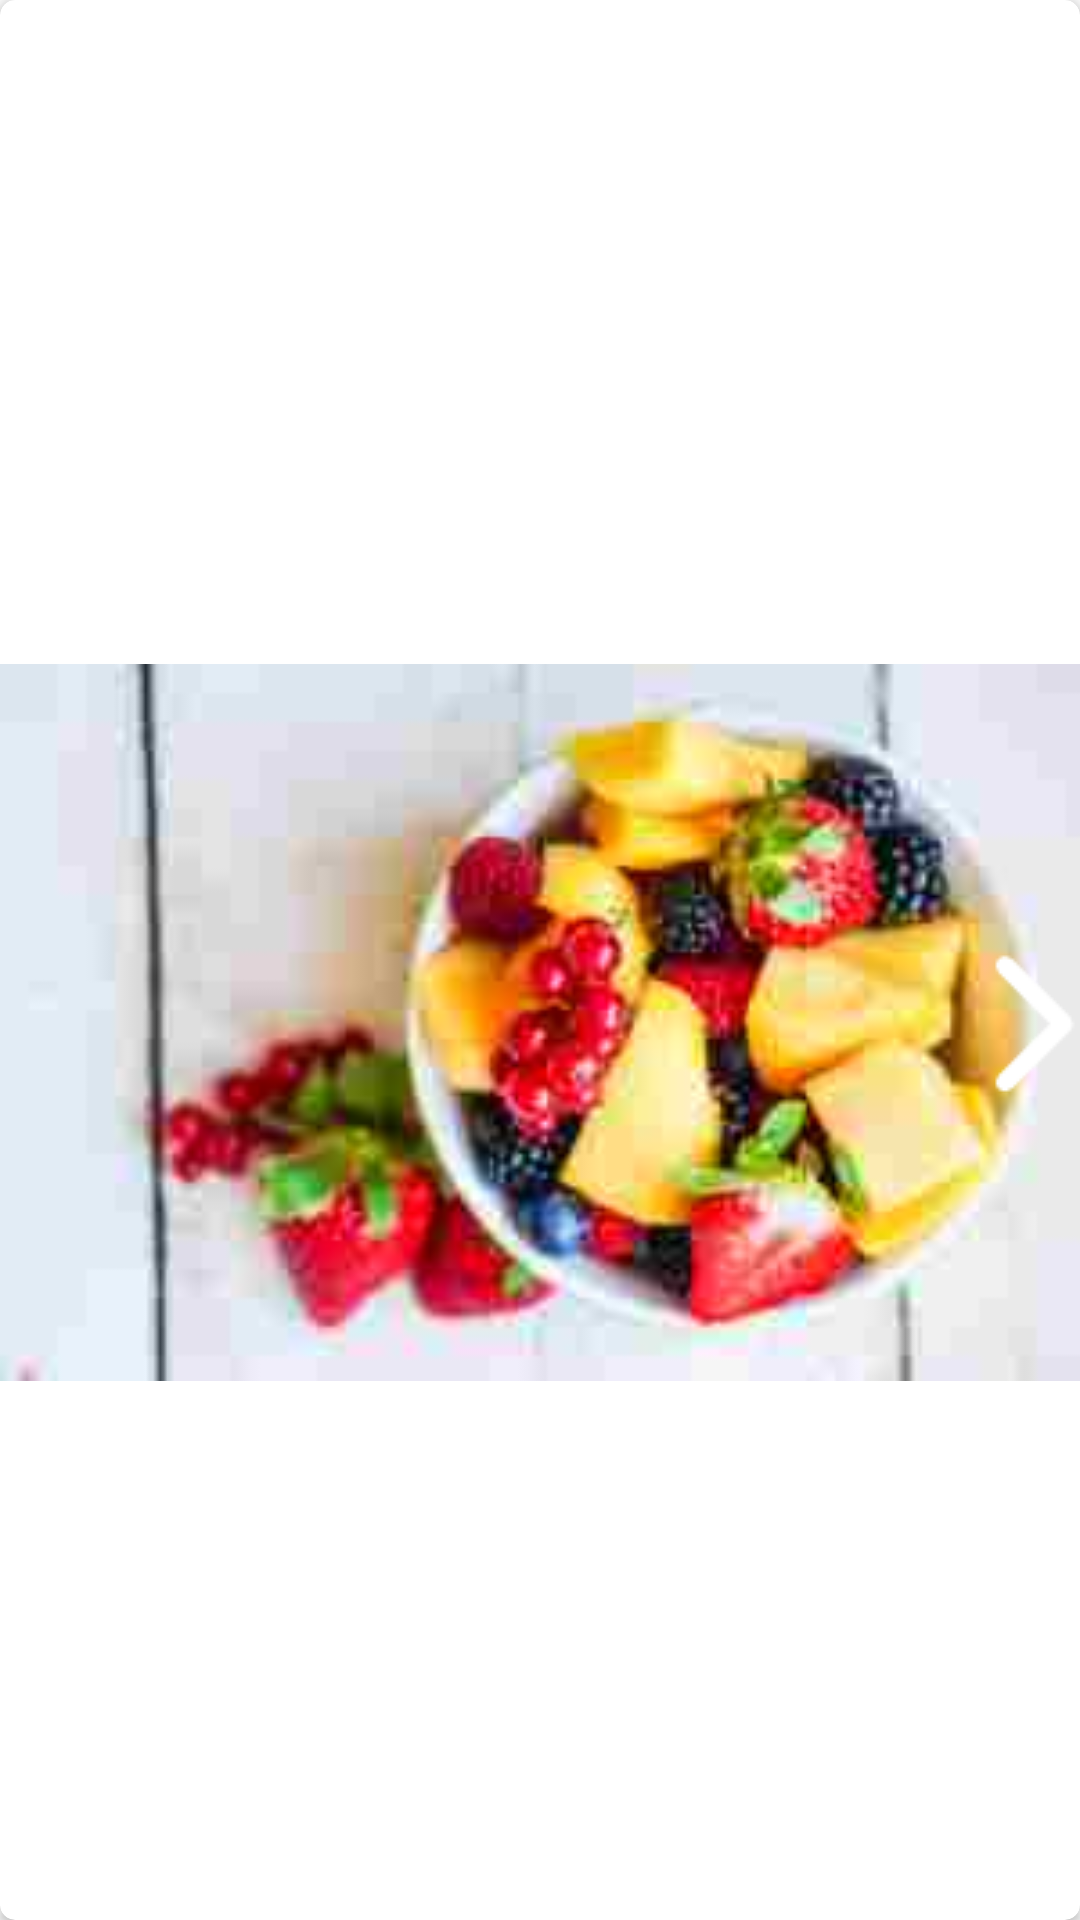

Icons on this 1080*1920 Android screen, each with the point to tap as (x,y):
next right: (1035,1022)
